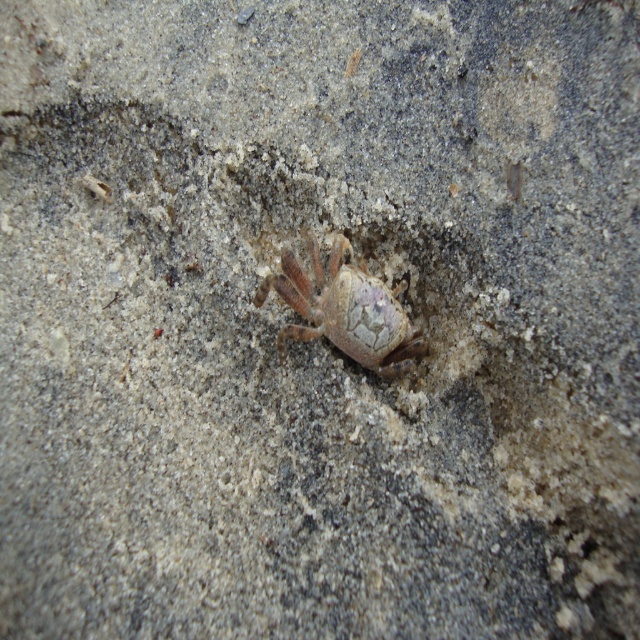Crab: (253, 231, 432, 389)
